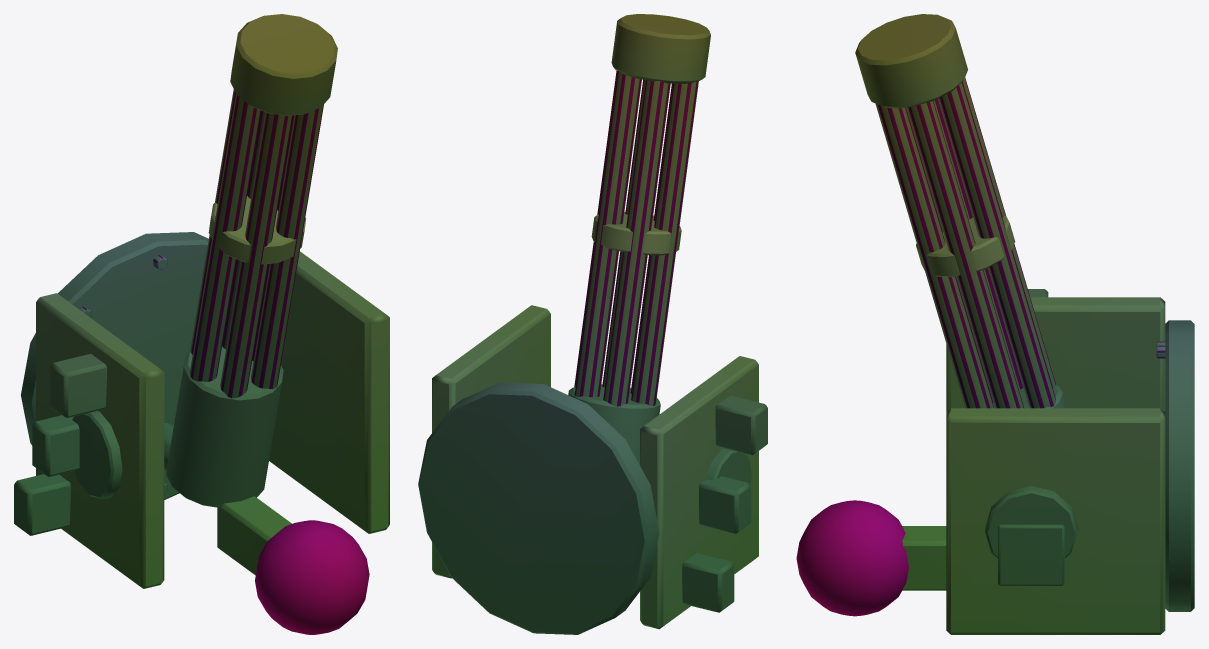
File: RCLModule_skyguard_sam_longshot_sniper_camo_sponsons.fbx
The picture shows the model from 3 angles, left to right: view 1: azimuth 30°, elevation 25°; view 2: azimuth 150°, elevation 25°; view 3: azimuth 270°, elevation 25°; orthographic projection. The views are drawn at different scales.
Parts seen in each view (by area): view 1: RCLModule_skyguard_sam_longshot_sniper_camo_sponsons_Batch_R (×3); view 2: RCLModule_skyguard_sam_longshot_sniper_camo_sponsons_Batch_R (×2); view 3: RCLModule_skyguard_sam_longshot_sniper_camo_sponsons_Batch_R (×3).
Part boxes in pixels (x1,y1,x2,y2): RCLModule_skyguard_sam_longshot_sniper_camo_sponsons_Batch_R (×3): (14, 14, 389, 634); RCLModule_skyguard_sam_longshot_sniper_camo_sponsons_Batch_R (×2): (418, 14, 767, 634); RCLModule_skyguard_sam_longshot_sniper_camo_sponsons_Batch_R (×3): (796, 14, 1194, 634).
Bounding box in the file's own units: 29.4 × 53.07 × 32.7.
